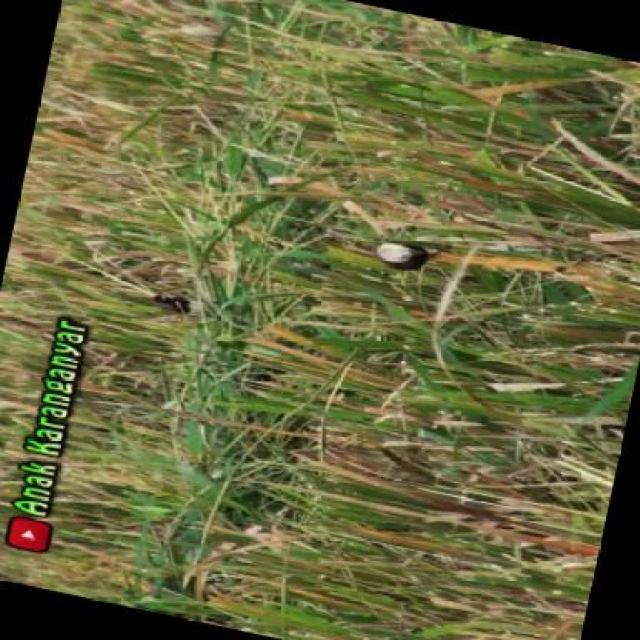Bird: (371, 230, 435, 287), (151, 284, 193, 325)
